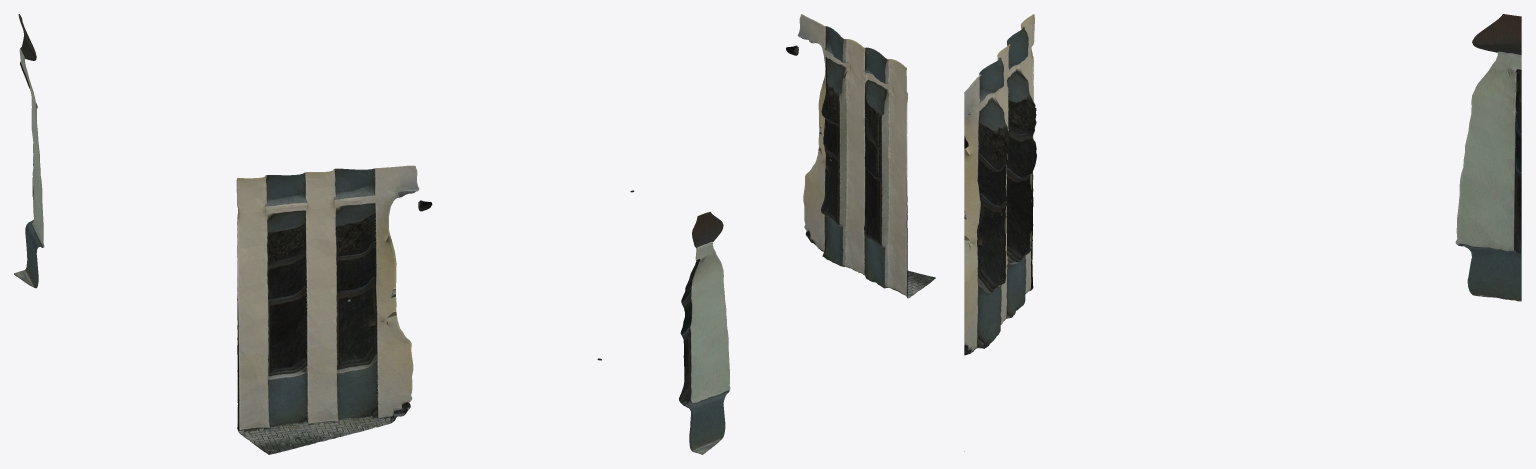
3 views of the same model, side by side, from view 1: azimuth 30°, elevation 25°; view 2: azimuth 150°, elevation 25°; view 3: azimuth 270°, elevation 25° (orthographic). The views are drawn at different scales.
Parts seen in each view (by area): view 1: node_102; view 2: node_102; view 3: node_102.
Part boxes in pixels (x1,y1,x2,y2): node_102: (14, 14, 601, 454); node_102: (630, 14, 935, 454); node_102: (964, 14, 1521, 451).
Size of the model in its own units: 8.31 by 6.18 by 10.99.
1 material, 1 textured.
